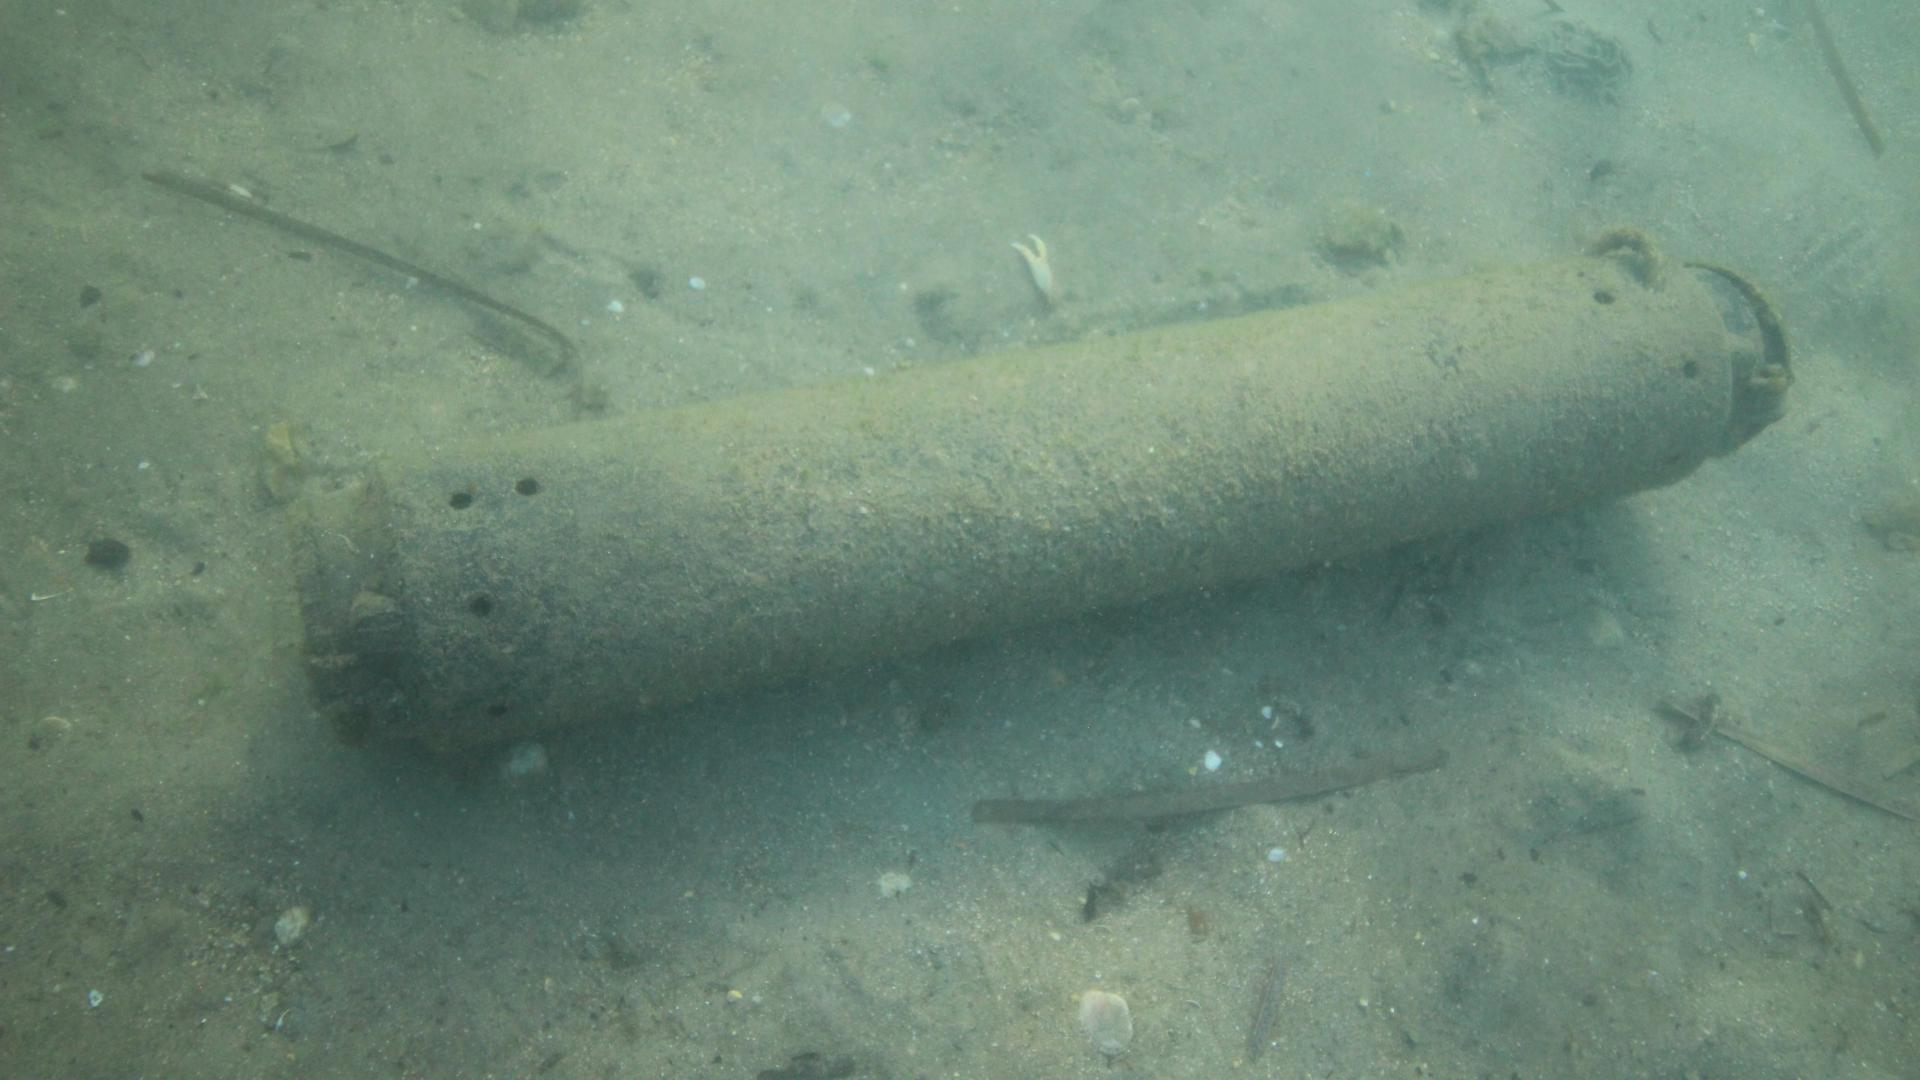eel fish trap: (291, 229, 1780, 752)
